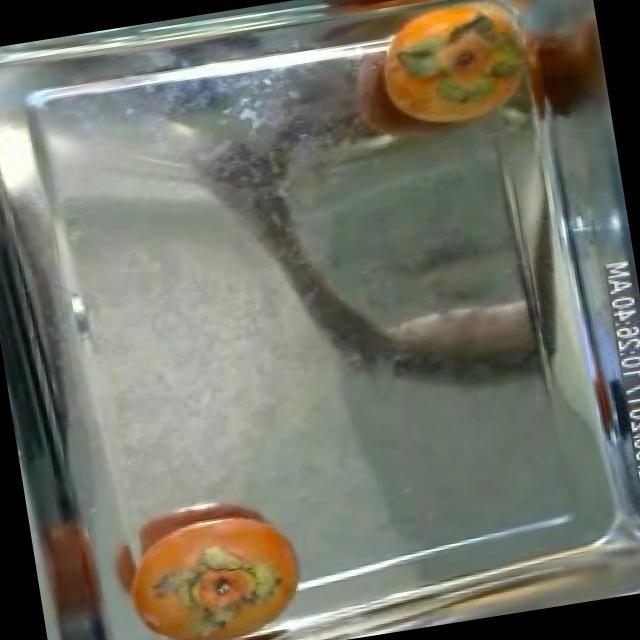Fruit: (359, 269, 559, 410)
